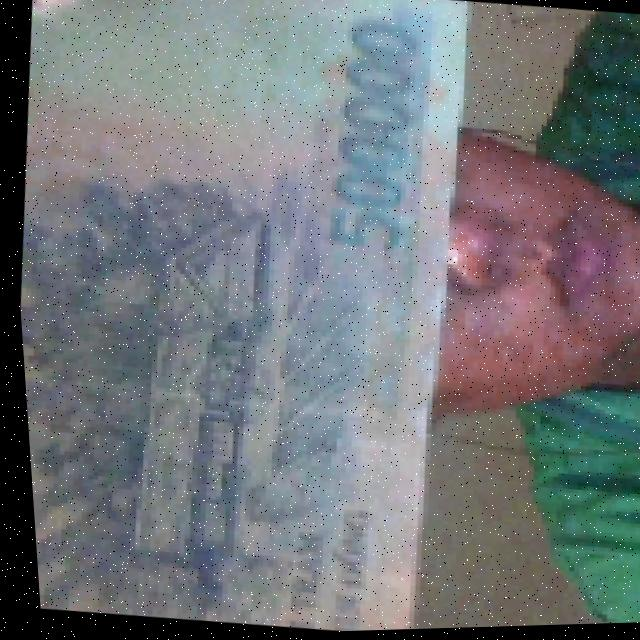500 000 VND: (0, 0, 504, 640)
